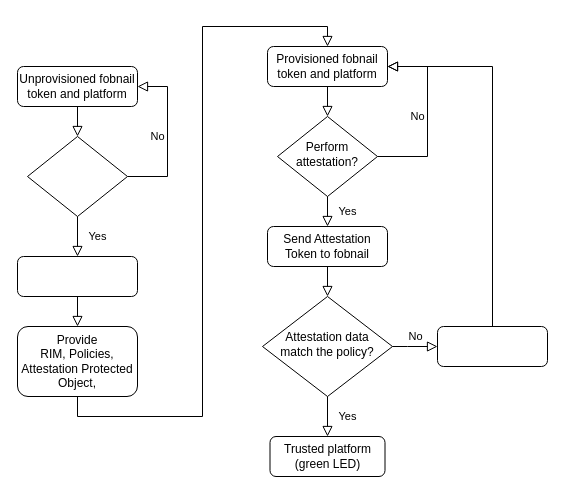
Some shapes in this 565 by 494 pixel diagram are drawn without their labels. Each missing label, with the centre of its shape:
Perform provisioning?: the point at 77,176
Provide identity and encryption certificates: the point at 77,276
Untrusted platform (red LED): the point at 492,346
